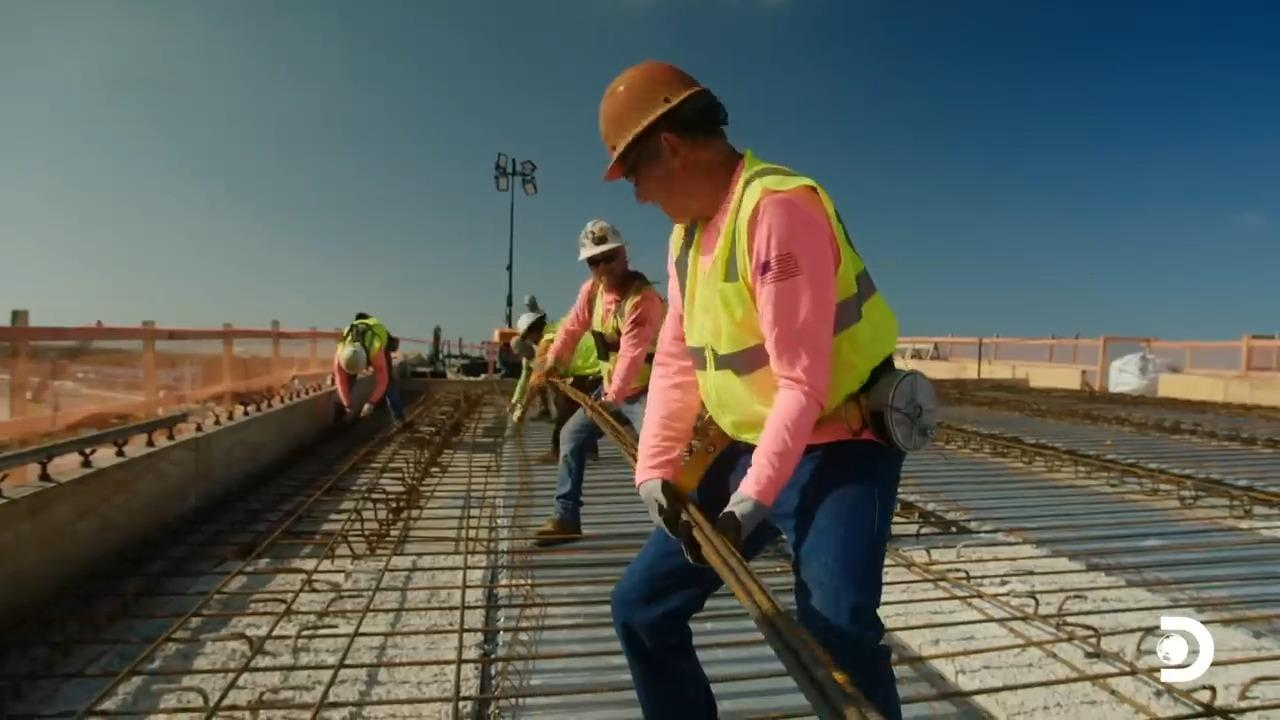Gloves: (688, 497, 755, 572)
Helmet: (597, 60, 704, 181), (637, 472, 681, 530), (577, 219, 628, 261), (338, 342, 367, 375), (516, 312, 546, 341), (360, 402, 374, 421)
Person: (597, 59, 910, 719), (533, 219, 664, 544), (331, 311, 407, 428), (509, 305, 597, 390)
Safety Boot: (532, 518, 585, 543)
Safety Vest: (683, 224, 876, 421), (595, 298, 654, 384), (346, 321, 382, 344)
